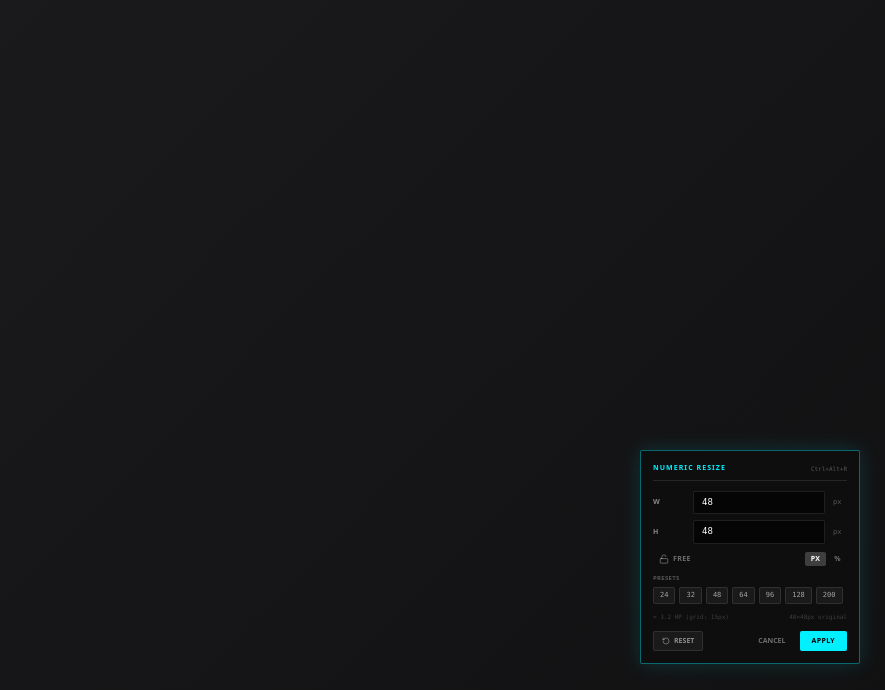
it: NumericResizePopover — aspect ratio lock › should toggle aspect ratio when lock button is clicked
Click the button with aria-label "Lock aspect ratio": (675, 559) [653,552,697,566]
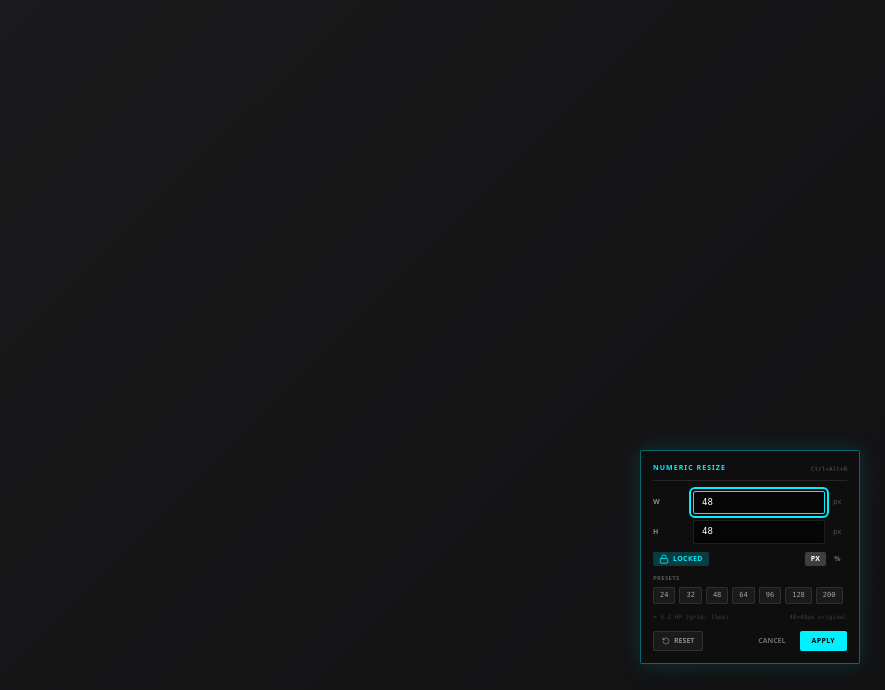
Result: the text "Locked" is shown at [673,554,703,564]
Result: the button with aria-label "Unlock aspect ratio" is shown at [653,552,709,566]
